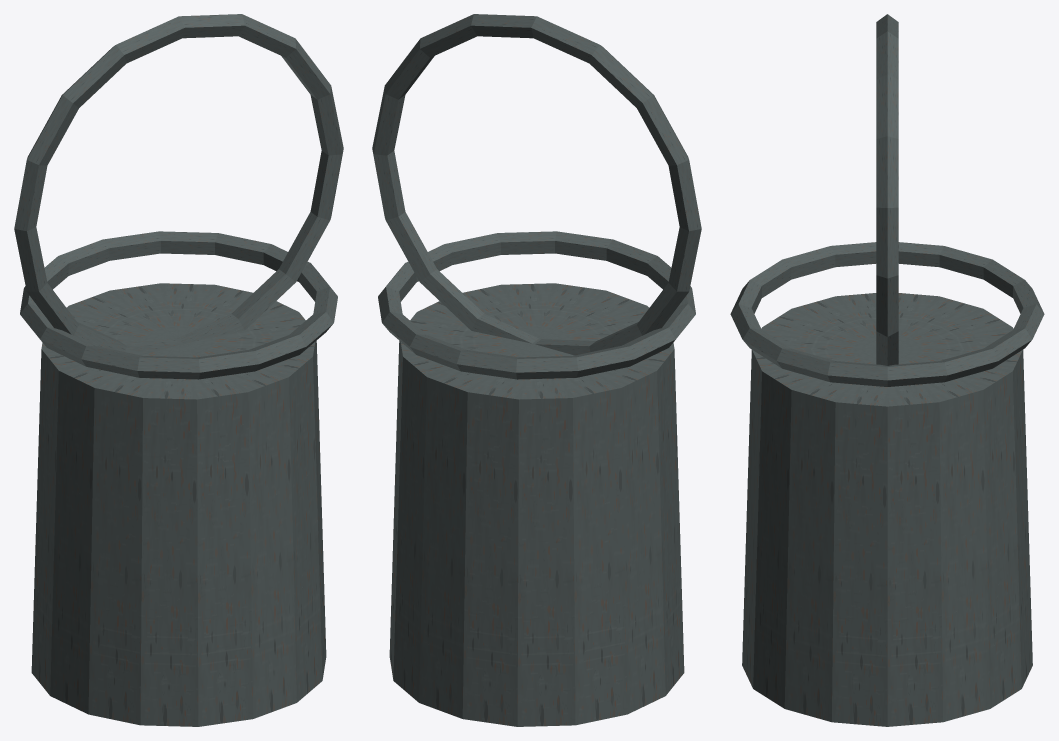
Rendered from ax-com-003_signal_lamp__off.obj.
The picture shows the model from 3 angles, left to right: view 1: azimuth 30°, elevation 25°; view 2: azimuth 150°, elevation 25°; view 3: azimuth 270°, elevation 25°; orthographic projection. The views are drawn at different scales.
Visible parts, largest first — view 1: ax-com-003_signal_lamp__off; view 2: ax-com-003_signal_lamp__off; view 3: ax-com-003_signal_lamp__off.
Part boxes in pixels (x1=…): ax-com-003_signal_lamp__off: x1=14, y1=14, x2=343, y2=726; ax-com-003_signal_lamp__off: x1=372, y1=14, x2=701, y2=726; ax-com-003_signal_lamp__off: x1=730, y1=14, x2=1044, y2=726.
Bounding box in the file's own units: 0.384 × 0.722 × 0.324.
2 materials, 2 textured.
